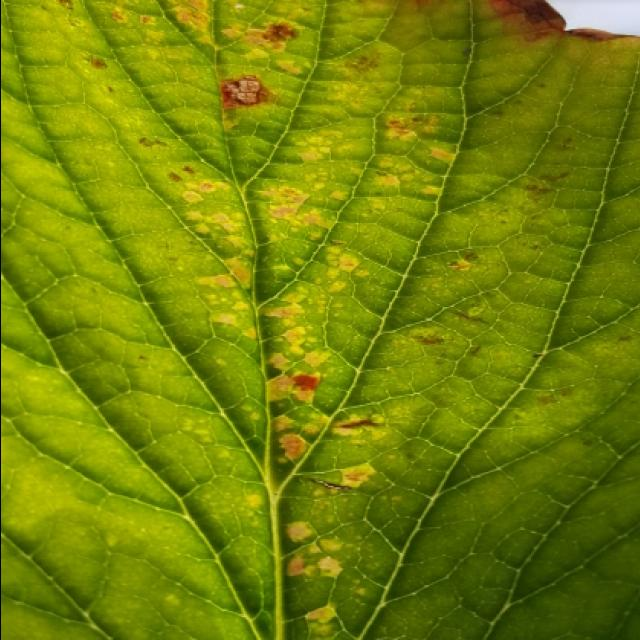Angular Leafspot: (34, 2, 640, 640)
